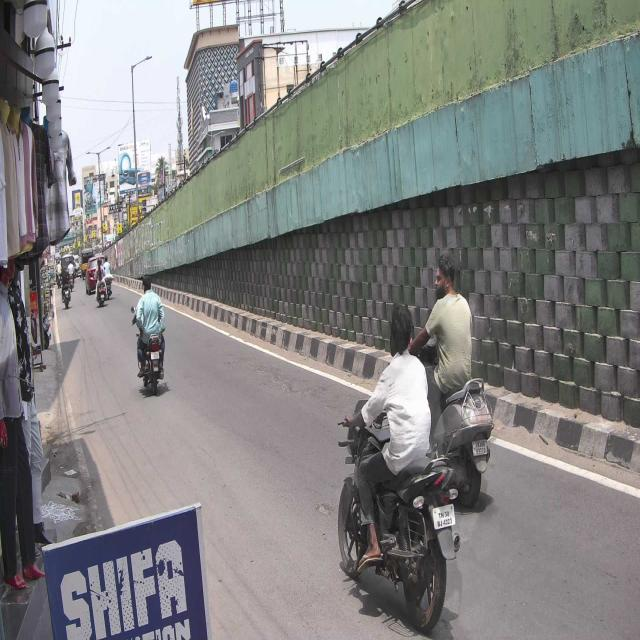single_rider: (337, 299, 461, 627)
